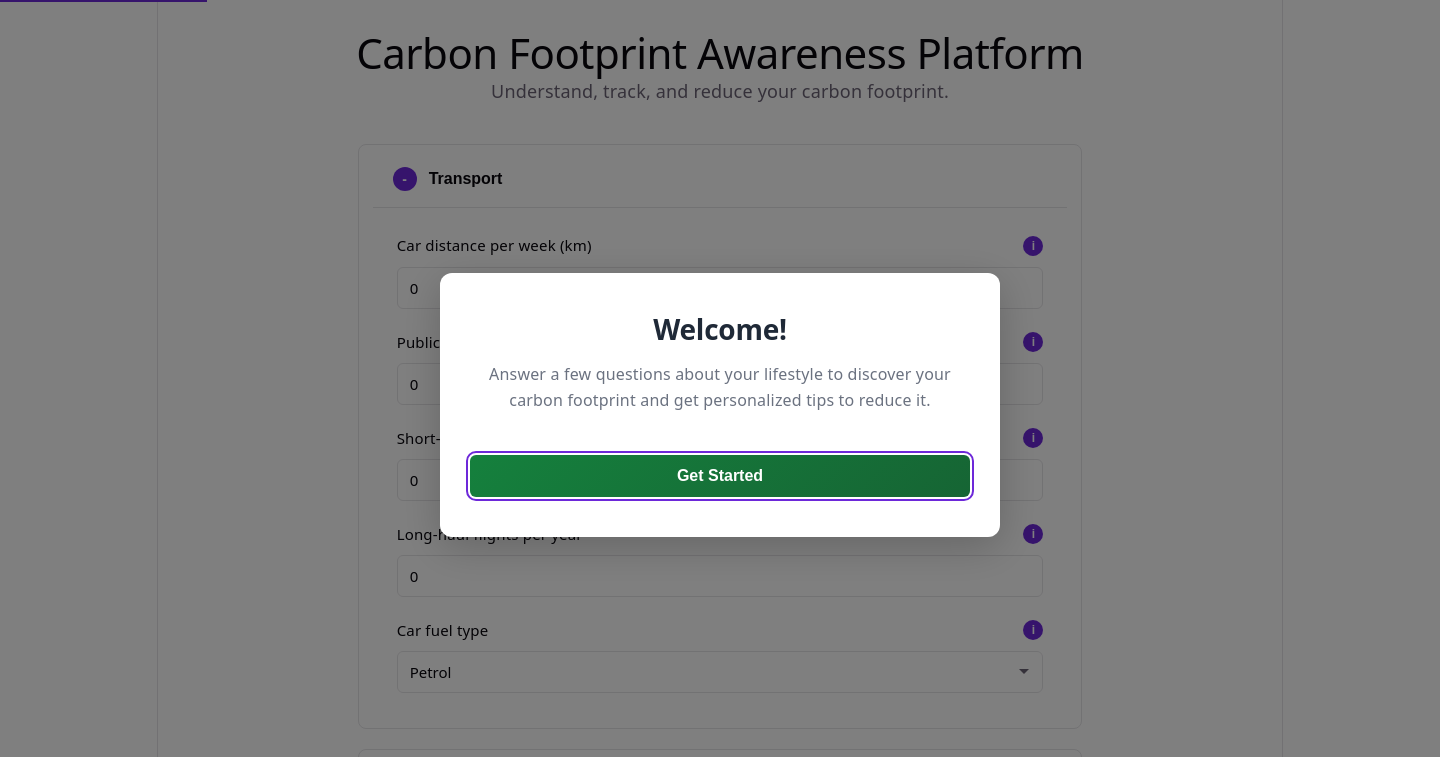
Scenario: App Integration Tests › should dismiss onboarding modal when button clicked
The width and height of the screenshot is (1440, 757).
Click the button "Get Started" at {"x": 720, "y": 476}, box [470,455,970,497]
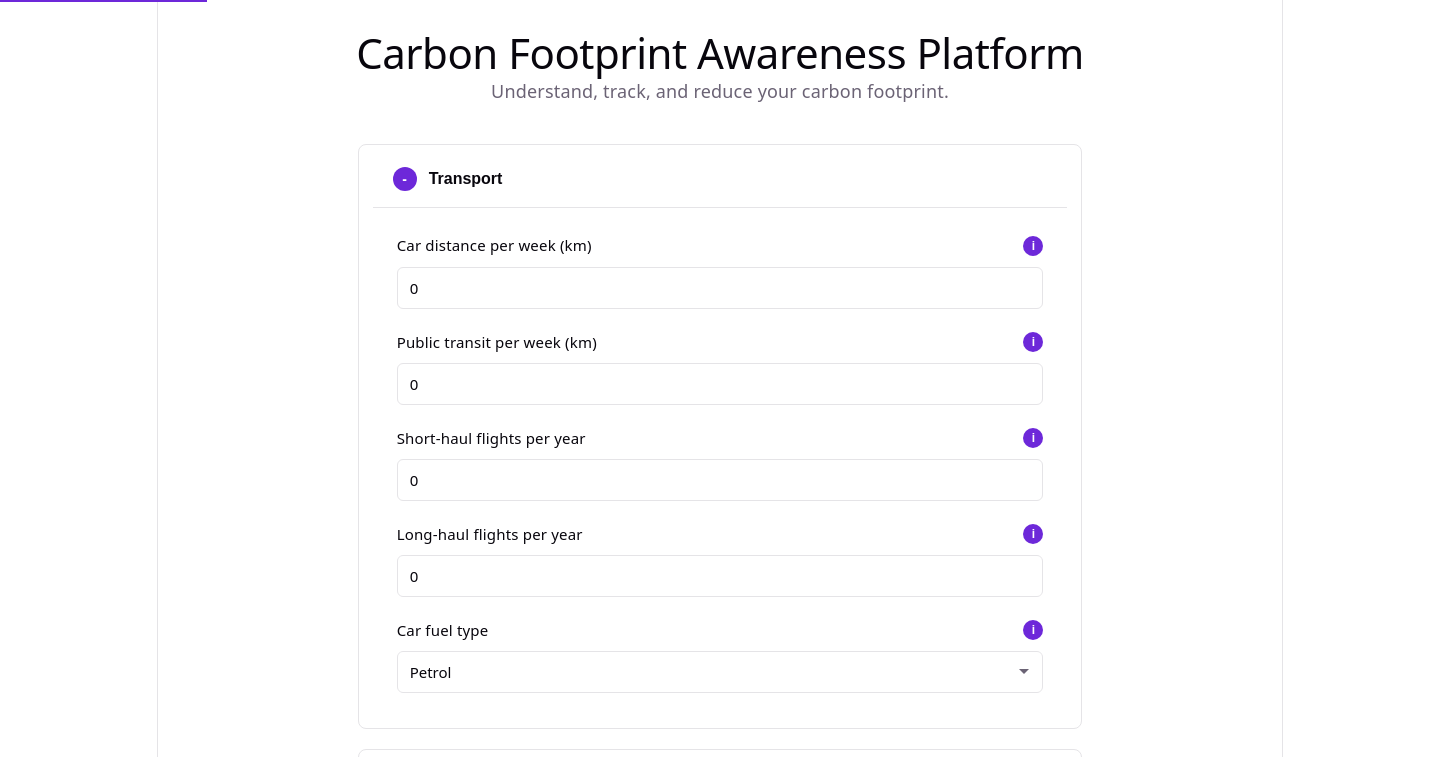
Check: the heading "Welcome!" is gone
